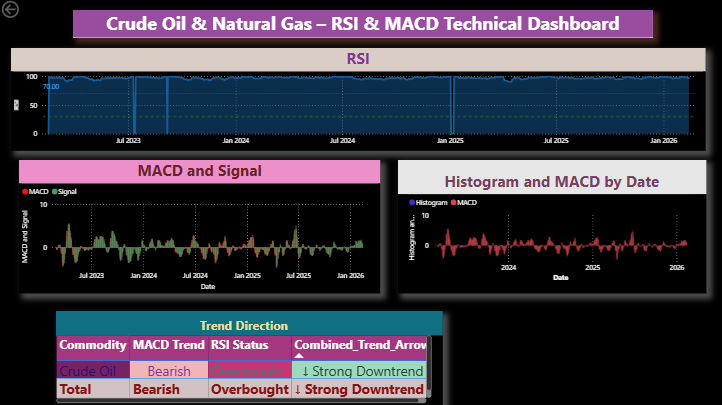

The dashboard page shown, as its layout file describes it:
{"tool":"powerbi","page":{"name":"Indicators","canvas":[1280,720],"ordinal":1},"visuals":[{"type":"actionButton","box":[0,0,100,40],"z":0},{"type":"lineChart","title":"RSI ","fields":{"Y":["crude_natural_gas.RSI"],"Category":["crude_natural_gas.Date.Variation.Date Hierarchy.Year"]},"box":[22,87.9,1222.5,180.9],"z":1000},{"type":"clusteredColumnChart","title":"MACD and Signal","fields":{"Category":["crude_natural_gas.Date"],"Y":["crude_natural_gas.MACD","crude_natural_gas.Signal"]},"box":[35.2,285.2,635.6,202.5],"z":2000},{"type":"clusteredColumnChart","fields":{"Category":["crude_natural_gas.Date"],"Y":["crude_natural_gas.Histogram","crude_natural_gas.MACD"]},"box":[702.5,285.2,542.3,202.5],"z":3000},{"type":"tableEx","title":"Trend Direction","fields":{"Values":["crude_natural_gas.Commodity","crude_natural_gas.MACD Trend","crude_natural_gas.RSI Status","crude_natural_gas.Combined_Trend_Arrow"]},"box":[230.1,524.1,682,196.5],"z":4000},{"type":"textbox","title":"Crude Oil & Natural Gas – RSI & MACD Technical Dashboard","box":[130.2,20.3,1021.3,49],"z":5000}]}

Visuals, with their boxes in screenshot pixels (x1, y1, x2, y2), scaled from the page's 1280x720 canvas onto the 722x405 screenshot:
actionButton: 0/0/56/22
"RSI " lineChart: 12/49/702/151
"MACD and Signal" clusteredColumnChart: 20/160/378/274
clusteredColumnChart - crude_natural_gas.Date x crude_natural_gas.Histogram: 396/160/702/274
"Trend Direction" tableEx: 130/295/514/404
"Crude Oil & Natural Gas – RSI & MACD Technical Dashboard" textbox: 73/11/650/39
